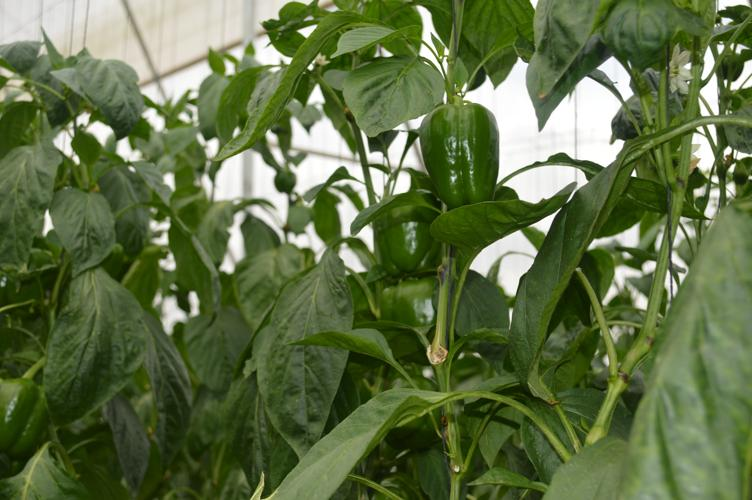BellPepper: (422, 101, 498, 203), (367, 197, 438, 275), (376, 279, 433, 357), (3, 378, 50, 457)
